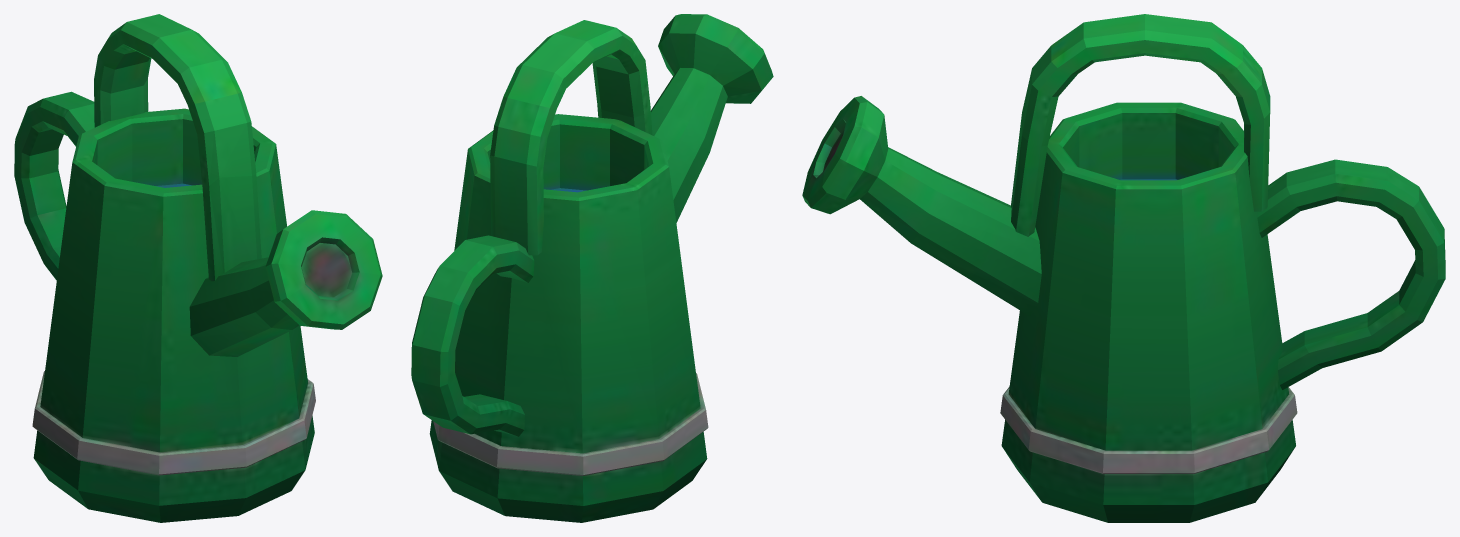
Rendered from watering_can.glb.
3 renders of one model, left to right at view 1: azimuth 30°, elevation 25°; view 2: azimuth 150°, elevation 25°; view 3: azimuth 270°, elevation 25°, orthographic. The views are drawn at different scales.
Parts seen in each view (by area): view 1: watering_can; view 2: watering_can; view 3: watering_can.
Boxes of the visible parts, left/top/right/bottom form: watering_can: left=14, top=14, right=382, bottom=522; watering_can: left=411, top=14, right=773, bottom=522; watering_can: left=802, top=14, right=1445, bottom=522.
Bounding box in the file's own units: 0.2002 × 0.35 × 0.4558.
1 material, 1 textured.
